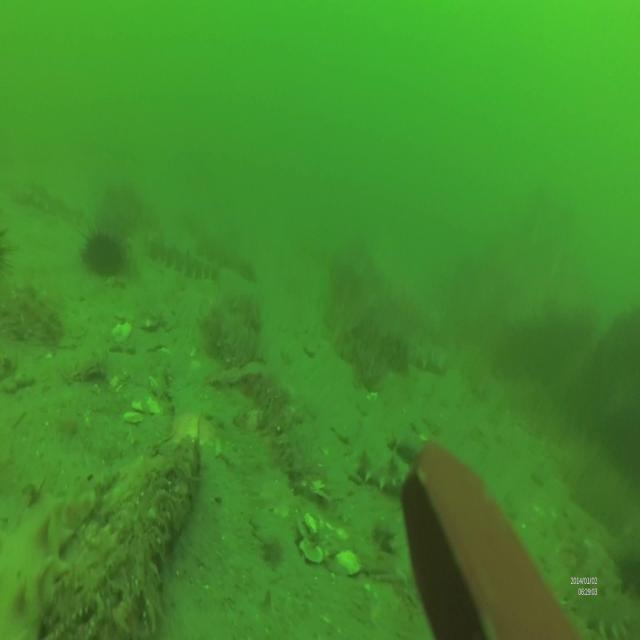echinus: (81, 232, 126, 280)
holothurian: (144, 227, 218, 290), (353, 446, 411, 505), (18, 178, 85, 228), (200, 237, 255, 282), (394, 432, 429, 466)
starfish: (169, 408, 220, 460)
